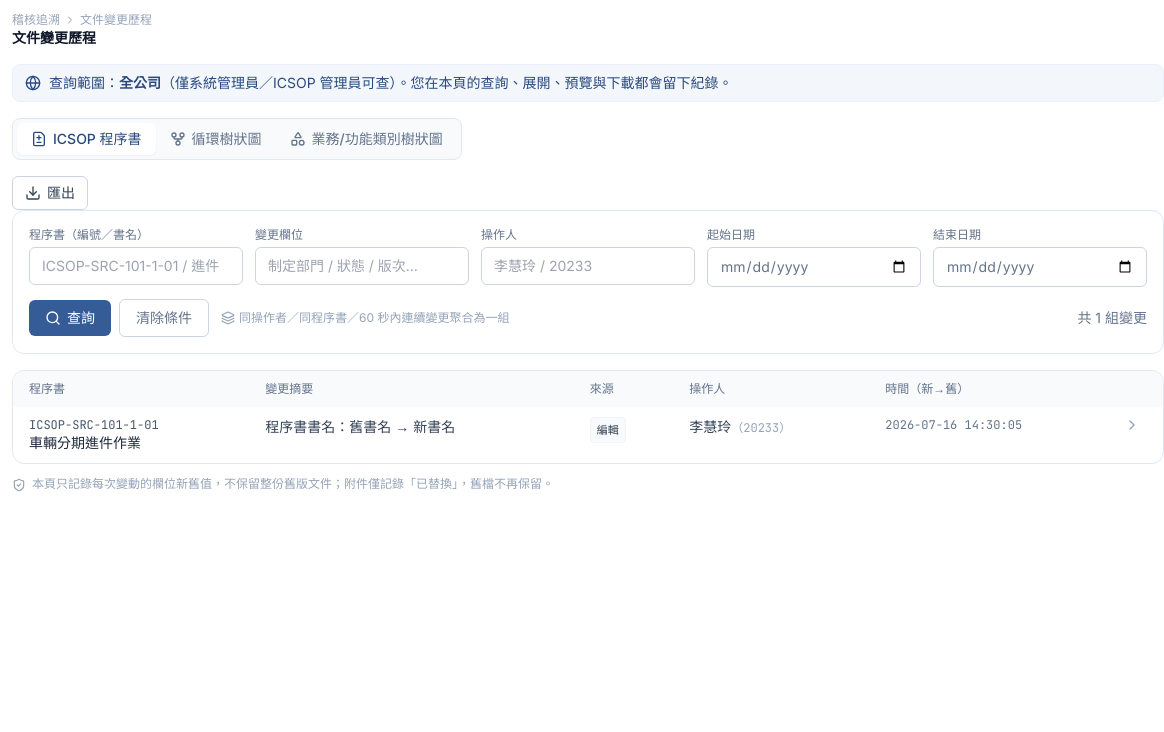
ChangeHistoryPage 匯出之使用者可見回饋（F037 AC-D10／F038 AC-D6 逐字文案） › 🔴 F037 AC-D10 超限 → 錯誤回饋**逐字**為指定句，並附錯誤碼標記
Click the button with id "exportDoc". click: (50, 193)
box: [12,176,88,210]
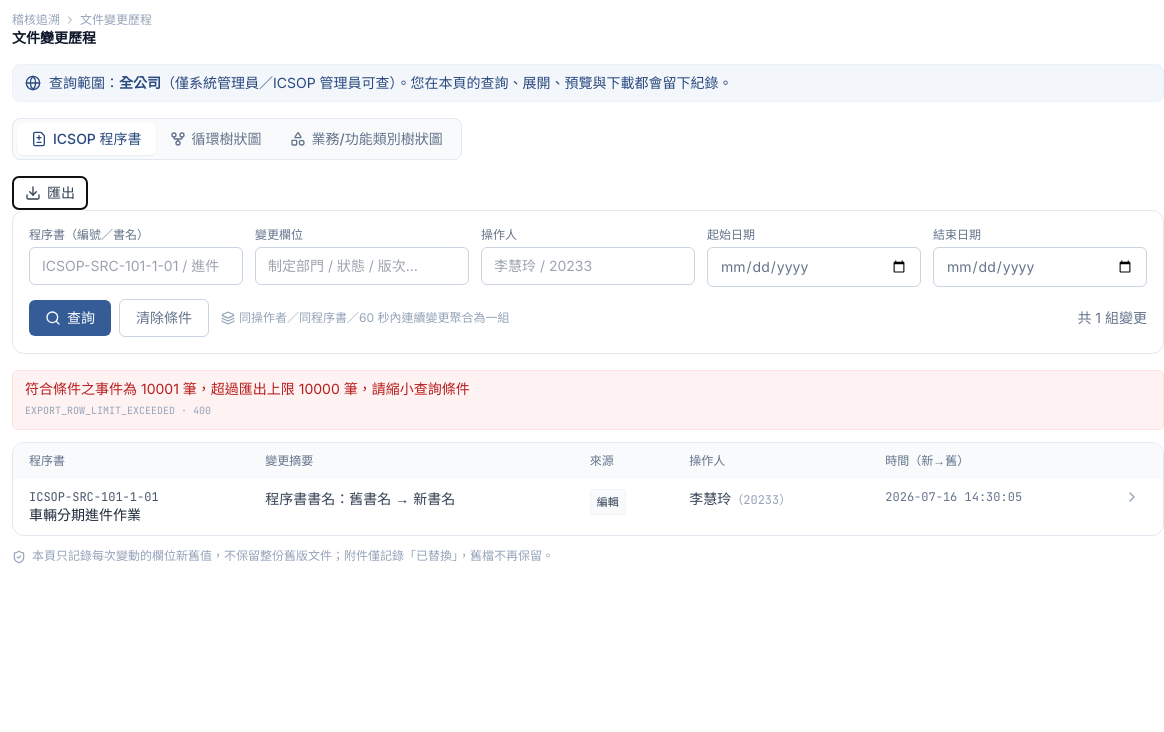
Now the text "EXPORT_ROW_LIMIT_EXCEEDED · 400" is shown, box [25,404,211,417]
